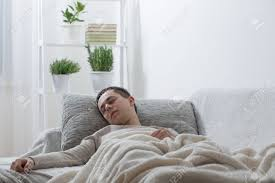sleeping: (3, 82, 255, 183)
